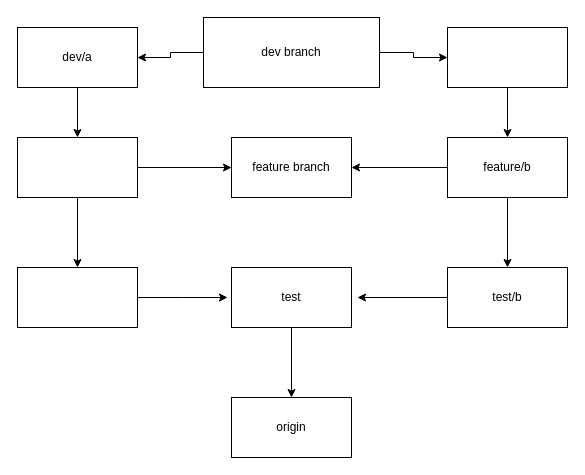
Some shapes in this 585 by 475 pixel diagram are drawn without their labels. Here are the shapes that lost their labels. From the top down, the centre of each, then its label:
At pixel 507 57: "dev/b".
At pixel 77 167: "feature/a".
At pixel 77 297: "test/a".
